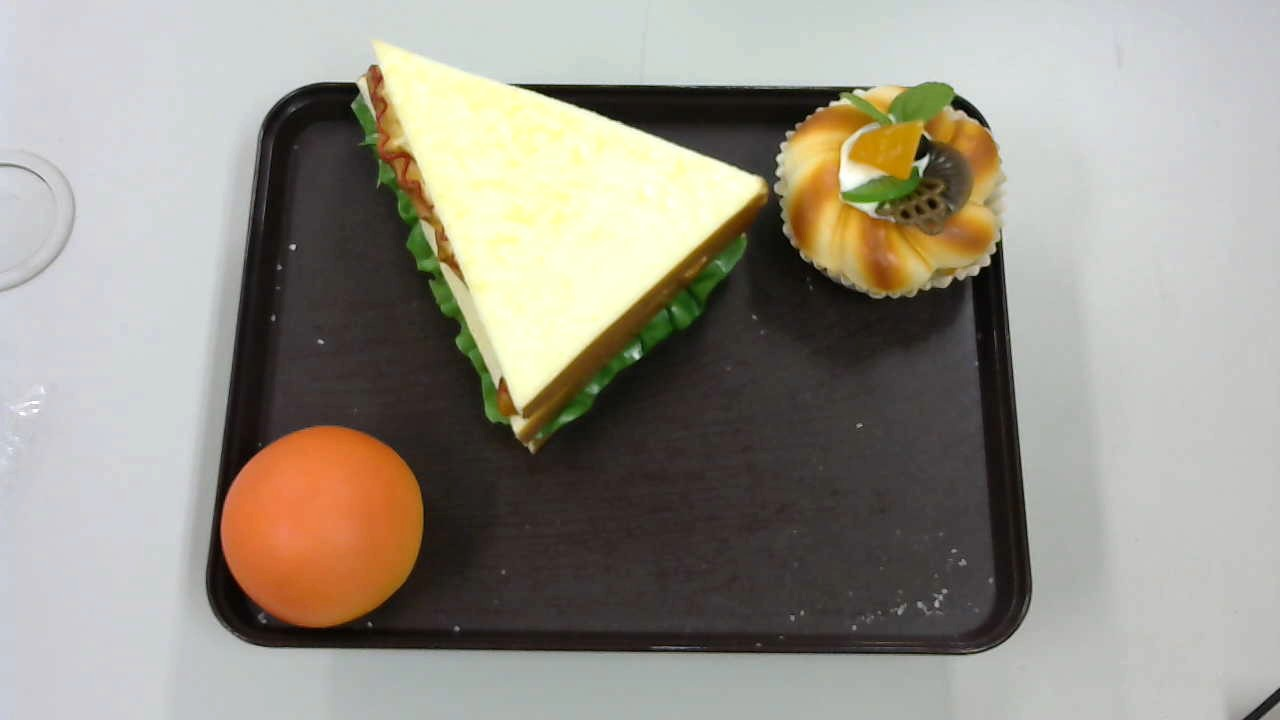bun: (220, 424, 423, 631)
fruit tart: (775, 81, 1006, 297)
sandwich: (350, 37, 767, 450)
